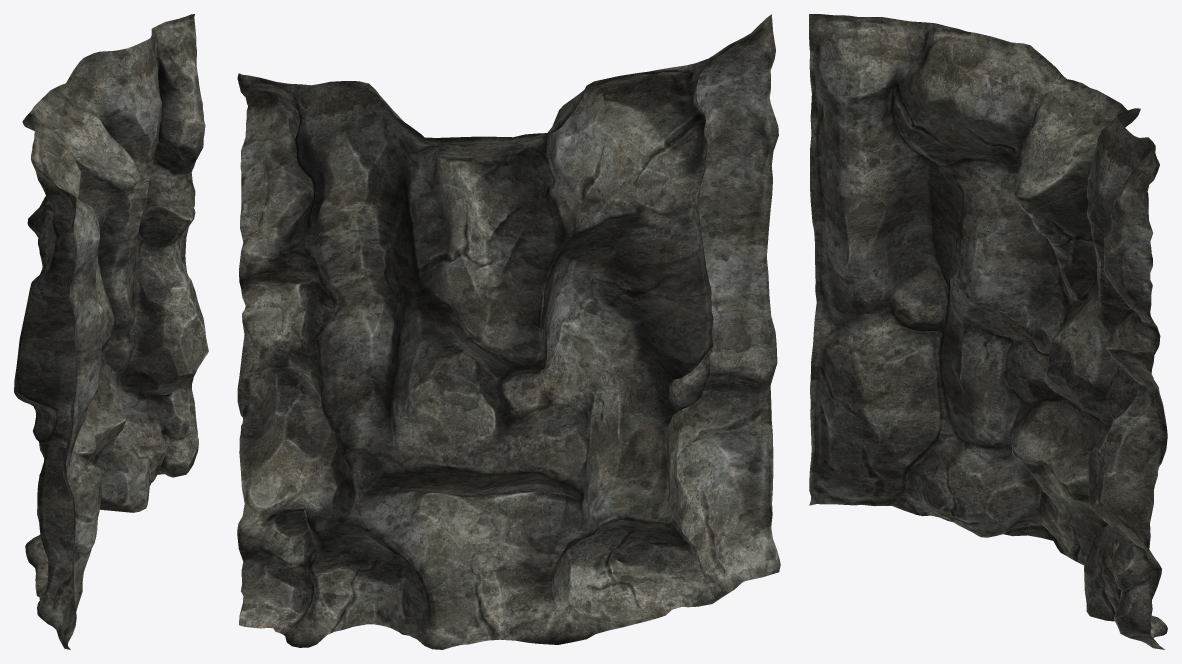
The model's file is cave_ravine_wall_02_concave.dae.
The picture shows the model from 3 angles, left to right: view 1: azimuth 30°, elevation 25°; view 2: azimuth 150°, elevation 25°; view 3: azimuth 270°, elevation 25°; orthographic projection. The views are drawn at different scales.
Parts seen in each view (by area): view 1: wall_2_concave_90; view 2: wall_2_concave_90; view 3: wall_2_concave_90.
Boxes of the visible parts, x1,y1,x2,y2 form: wall_2_concave_90: (14,14,208,649); wall_2_concave_90: (237,14,780,649); wall_2_concave_90: (809,14,1167,649).
Size of what is drawn, in the model's own units: 2.67 by 4.02 by 2.63.
